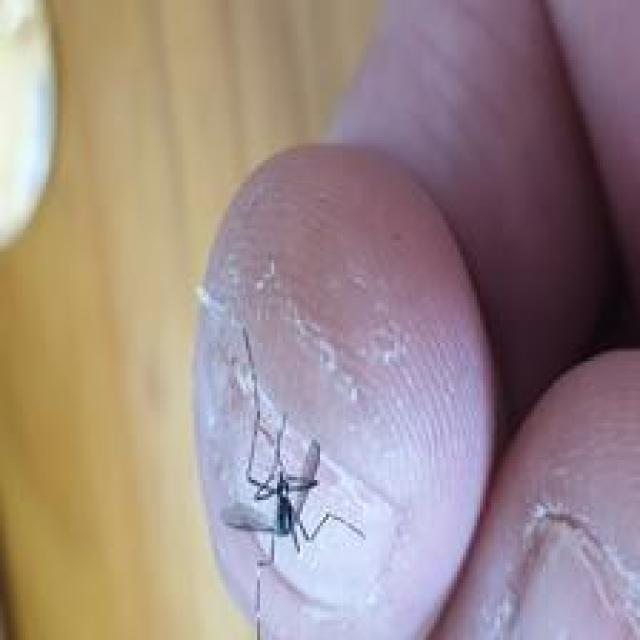Aedes albopictus: (217, 325, 365, 640)
